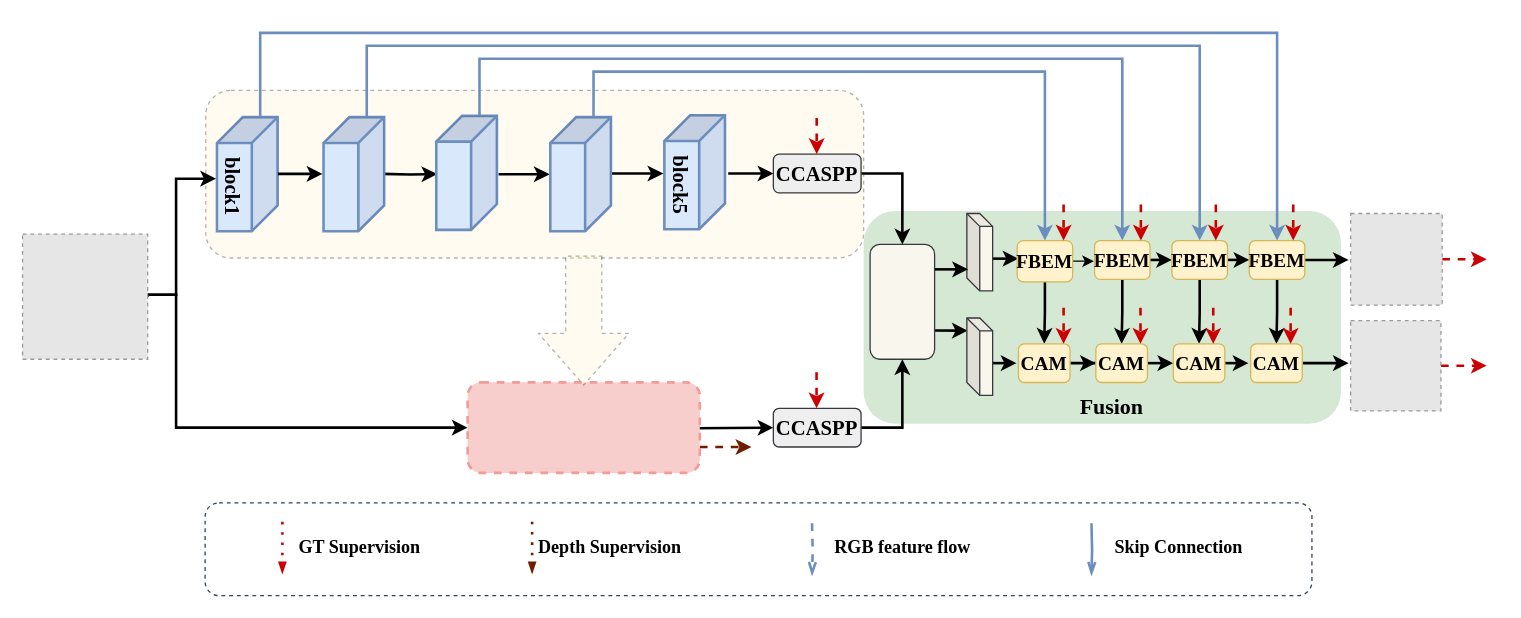
This 1521x618 diagram has some shape labels left out. Grey dashed boxes stand in for pictures. The centre of each missing label's shape, as x and y in pixels:
"AFIM" goes at (902,301).
"block2" goes at (353,173).
"block3" goes at (466,172).
"block4" goes at (580,173).
"Depth Estimator" goes at (583,427).
